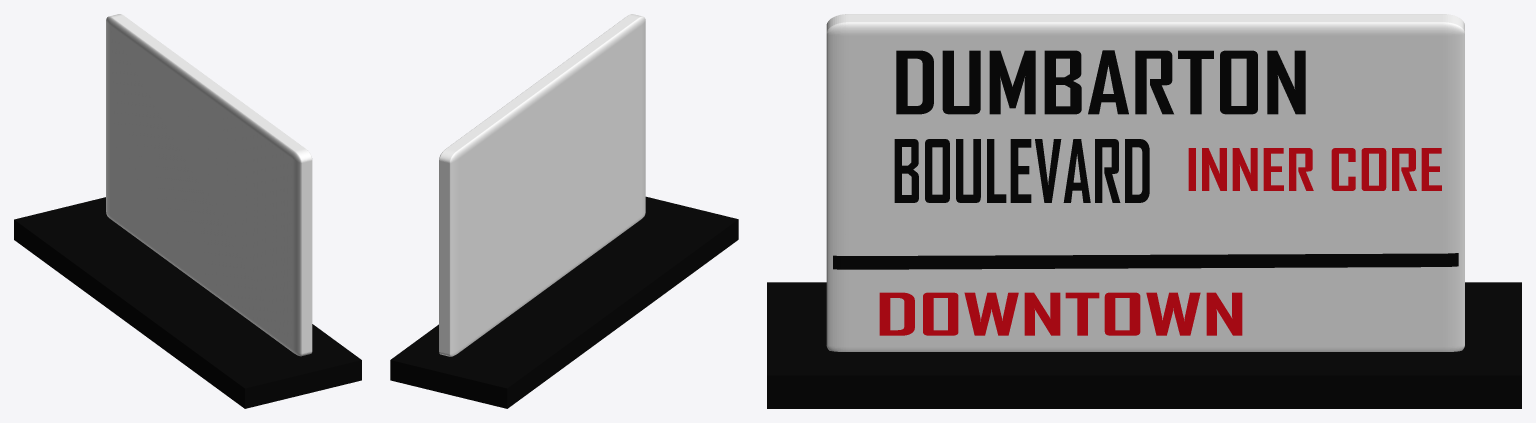
The model's file is uk_styled_street_sign_63.fbx.
3 renders of one model, left to right at view 1: azimuth 30°, elevation 25°; view 2: azimuth 150°, elevation 25°; view 3: azimuth 270°, elevation 25°, orthographic. The views are drawn at different scales.
Parts seen in each view (by area): view 1: Cube, Cube.001; view 2: Cube, Cube.001; view 3: Cube, Cube.001, Text, Text.002, Text.001, Text.003.
Boxes of the visible parts, bbox=[...] form: Cube: bbox=[106, 14, 312, 356]; Cube.001: bbox=[14, 197, 361, 408]; Cube: bbox=[439, 14, 645, 356]; Cube.001: bbox=[390, 196, 738, 408]; Cube: bbox=[826, 14, 1464, 351]; Cube.001: bbox=[767, 282, 1521, 408]; Text: bbox=[896, 50, 1305, 114]; Text.002: bbox=[879, 292, 1242, 335]; Text.001: bbox=[894, 139, 1149, 202]; Text.003: bbox=[1188, 148, 1441, 190].
Bounding box in the file's own units: 12 × 21.71 × 41.07.
